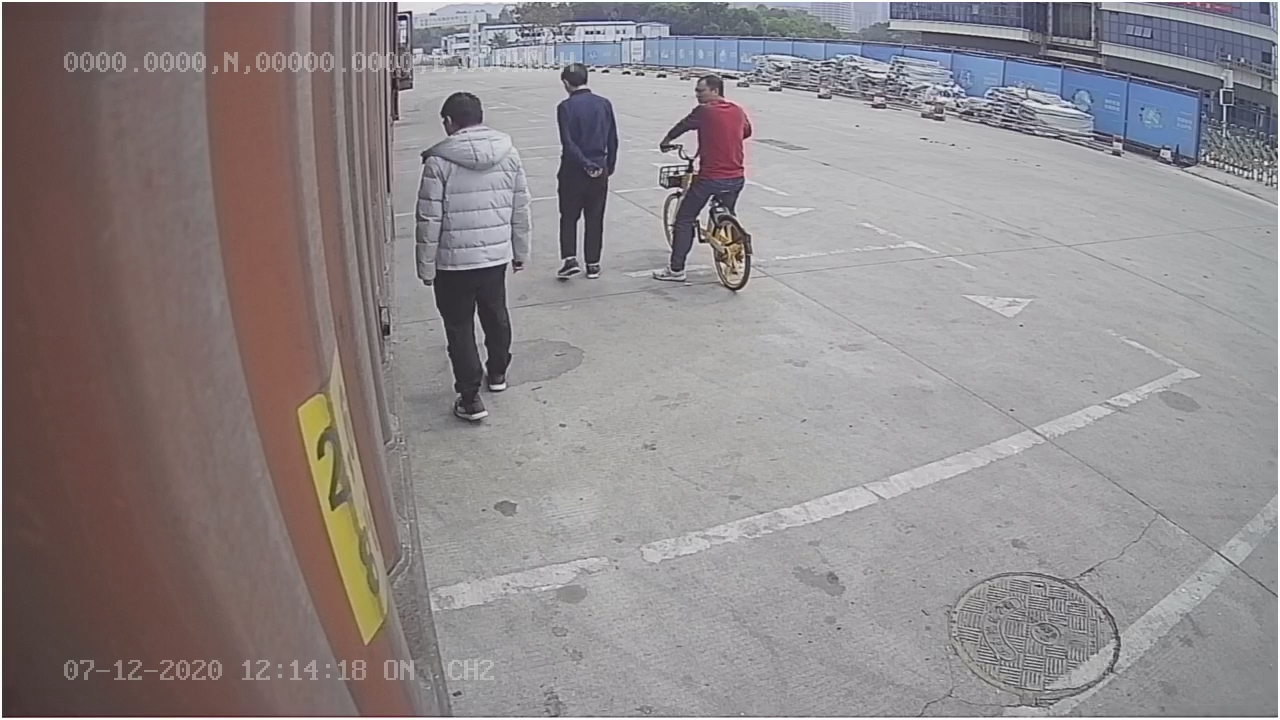person: (409, 90, 540, 425)
